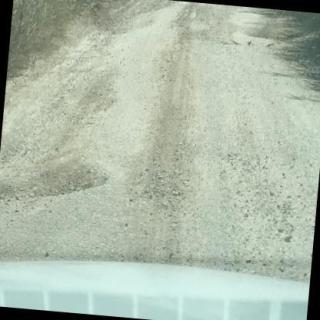pothole: (20, 162, 112, 200)
